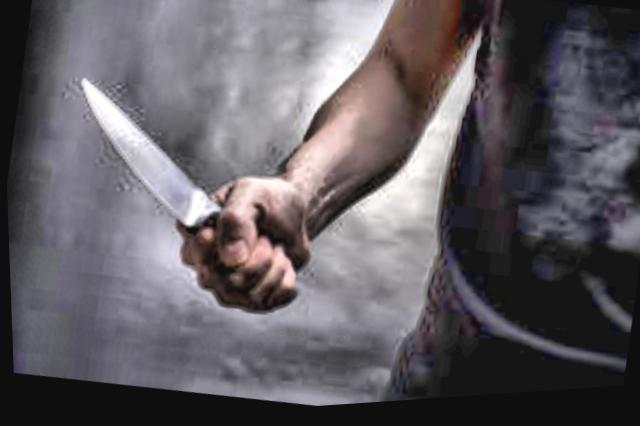knife: (29, 55, 286, 333)
